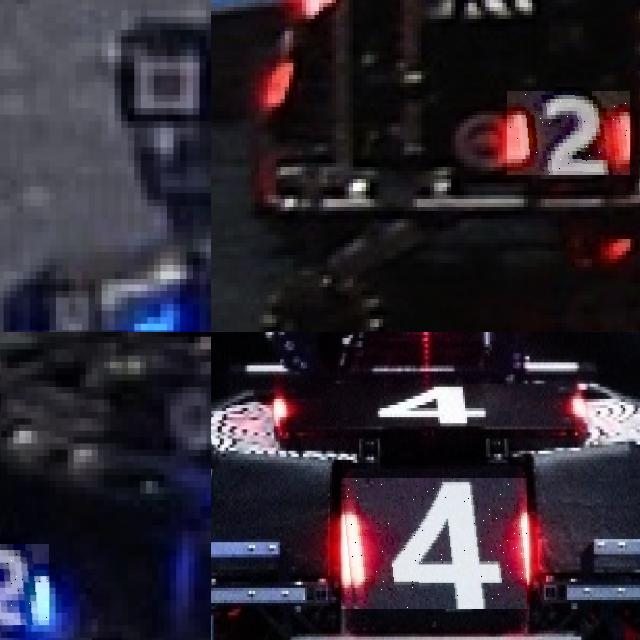B2: (0, 543, 49, 625)
R2: (507, 91, 630, 175)
R4: (341, 478, 527, 609)
